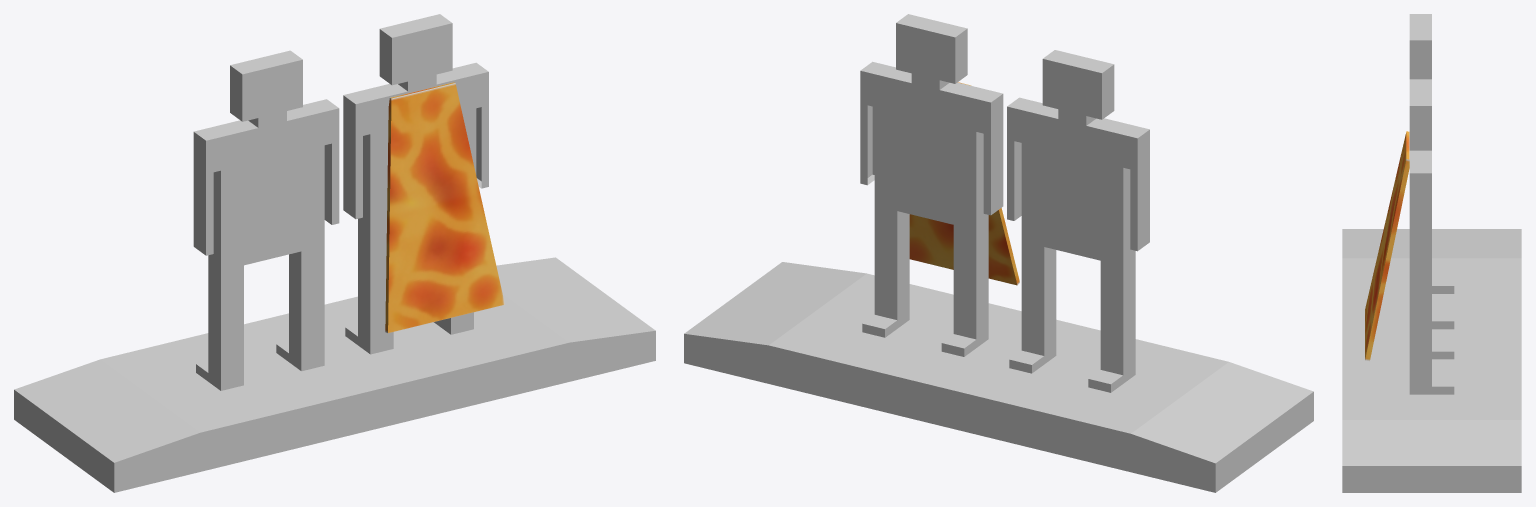
File: firecapebridgestatue.fbx
3 renders of one model, left to right at view 1: azimuth 30°, elevation 25°; view 2: azimuth 150°, elevation 25°; view 3: azimuth 270°, elevation 25°, orthographic. The views are drawn at different scales.
Parts seen in each view (by area): view 1: Plane.001; view 2: Plane.001; view 3: Plane.001.
Part boxes in pixels (left/top/right/bottom): Plane.001: left=14, top=14, right=655, bottom=492; Plane.001: left=684, top=14, right=1313, bottom=492; Plane.001: left=1342, top=14, right=1521, bottom=492.
Size of the model in its own units: 625 by 386 by 200.
